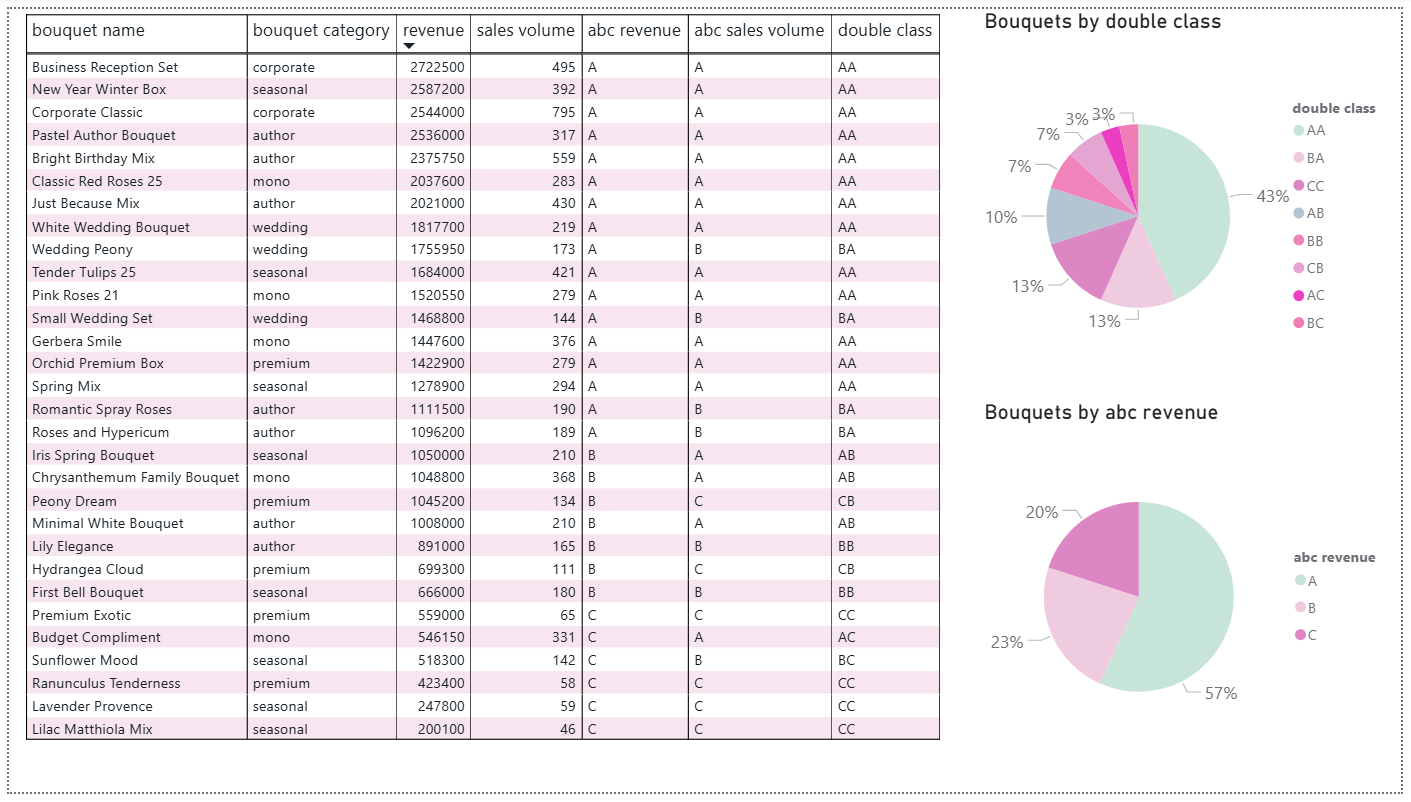

The page's visual inventory and layout, read from the dashboard file:
{"tool":"powerbi","page":{"name":"Double abc  - analysis","canvas":[1280,720],"ordinal":3},"visuals":[{"type":"tableEx","fields":{"Values":["07_double_abc_analysis.bouquet name","07_double_abc_analysis.bouquet category","07_double_abc_analysis.revenue","07_double_abc_analysis.sales volume","07_double_abc_analysis.abc revenue","07_double_abc_analysis.abc sales volume","07_double_abc_analysis.double class"]},"box":[9.6,0,860.4,699.8],"z":0},{"type":"pieChart","title":"Bouquets by double class","fields":{"Category":["07_double_abc_analysis.double class"],"Y":["CountNonNull(07_double_abc_analysis.bouquet name)"]},"box":[891.9,0,388.3,359.5],"z":1000},{"type":"pieChart","title":"Bouquets by abc revenue","fields":{"Category":["07_double_abc_analysis.abc revenue"],"Y":["CountNonNull(07_double_abc_analysis.bouquet name)"]},"box":[891.9,359.5,388.3,340.3],"z":2000}]}

Visuals, with their boxes in screenshot pixels (x1, y1, x2, y2), scaled from the page's 1280x720 canvas onto the 1411x802 screenshot:
tableEx - 07_double_abc_analysis.bouquet name x 07_double_abc_analysis.bouquet category: 11, 0, 959, 779
"Bouquets by double class" pieChart: 983, 0, 1410, 400
"Bouquets by abc revenue" pieChart: 983, 400, 1410, 779
